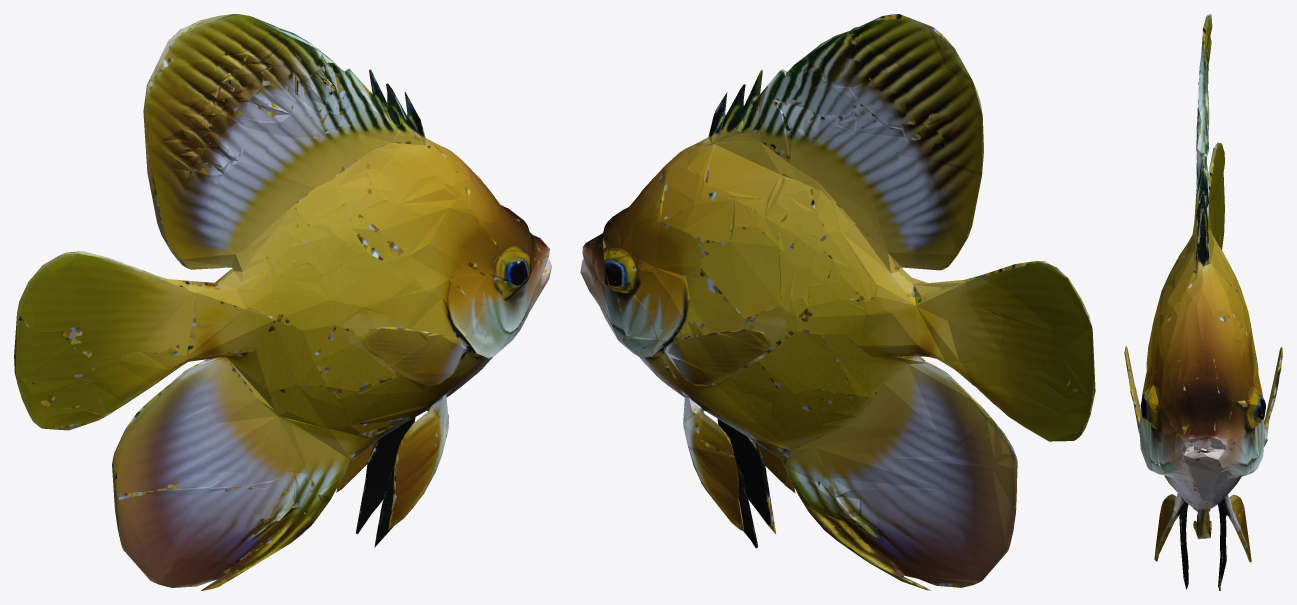
Rendered from fish_0015_smpl23_resized.glb.
3 views of the same model, side by side, from view 1: azimuth 30°, elevation 25°; view 2: azimuth 150°, elevation 25°; view 3: azimuth 270°, elevation 25° (orthographic). The views are drawn at different scales.
Visible parts, largest first — view 1: world; view 2: world; view 3: world.
Part boxes in pixels (x1,y1,x2,y2): world: (14,14,551,590); world: (580,14,1095,590); world: (1124,14,1282,590).
Bounding box in the file's own units: 1.92 × 1.99 × 0.5618.
Materials: 1 (1 with a texture image).
